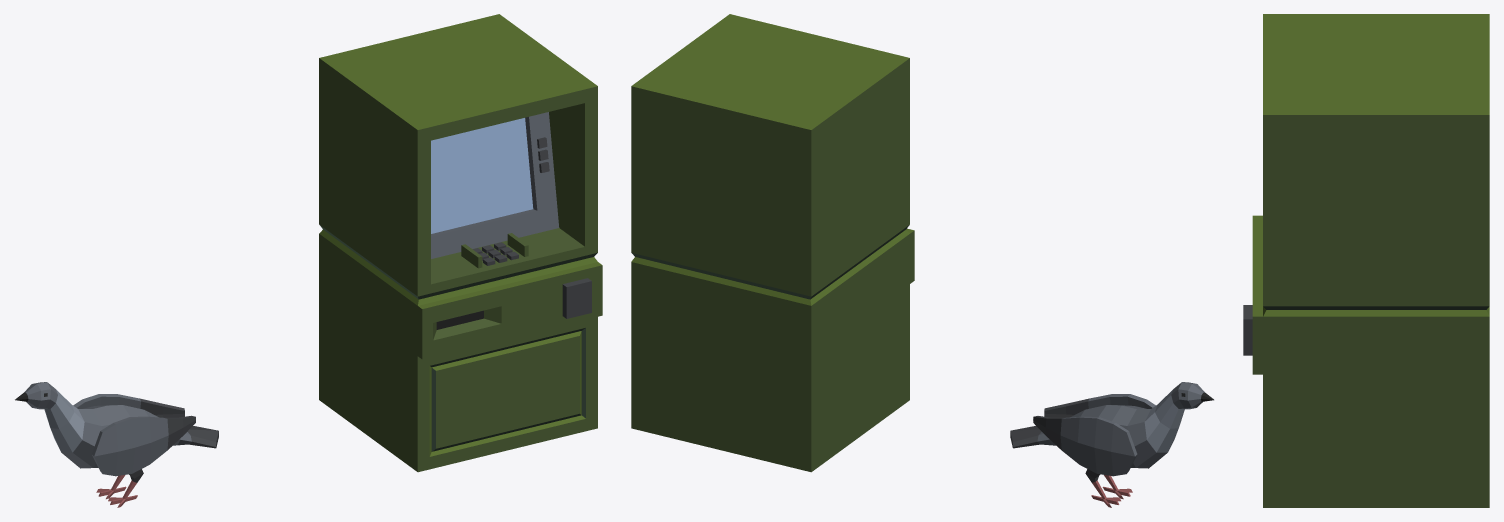
Rendered from Bankomat_Golub.fbx.
3 views of the same model, side by side, from view 1: azimuth 30°, elevation 25°; view 2: azimuth 150°, elevation 25°; view 3: azimuth 270°, elevation 25° (orthographic). The views are drawn at different scales.
Visible parts, largest first — view 1: SM_DL_Bankomat, SM_DL_Golub; view 2: SM_DL_Bankomat, SM_DL_Golub; view 3: SM_DL_Bankomat.
Boxes of the visible parts, bbox=[...] form: SM_DL_Bankomat: bbox=[319, 14, 602, 472]; SM_DL_Golub: bbox=[15, 382, 218, 507]; SM_DL_Bankomat: bbox=[631, 14, 914, 472]; SM_DL_Golub: bbox=[1010, 382, 1213, 507]; SM_DL_Bankomat: bbox=[1243, 14, 1489, 507].
Bounding box in the file's own units: 2.94 × 1.8 × 1.02.
